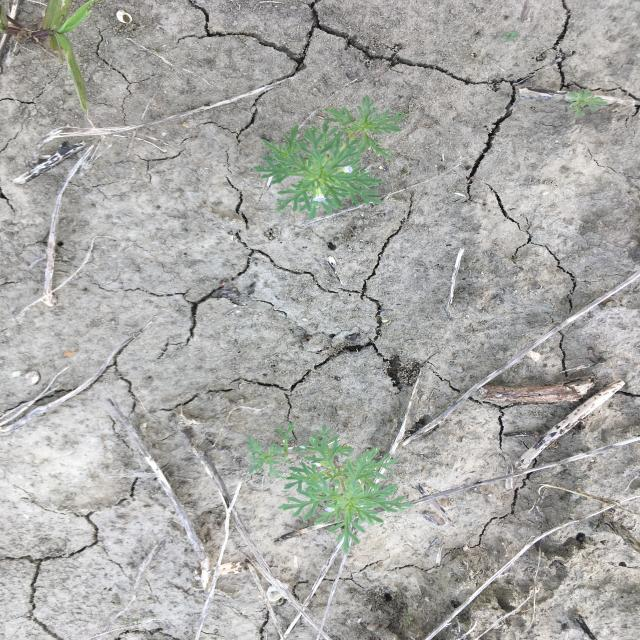Ragweed: (244, 421, 416, 554), (252, 94, 411, 222), (564, 86, 608, 119)
